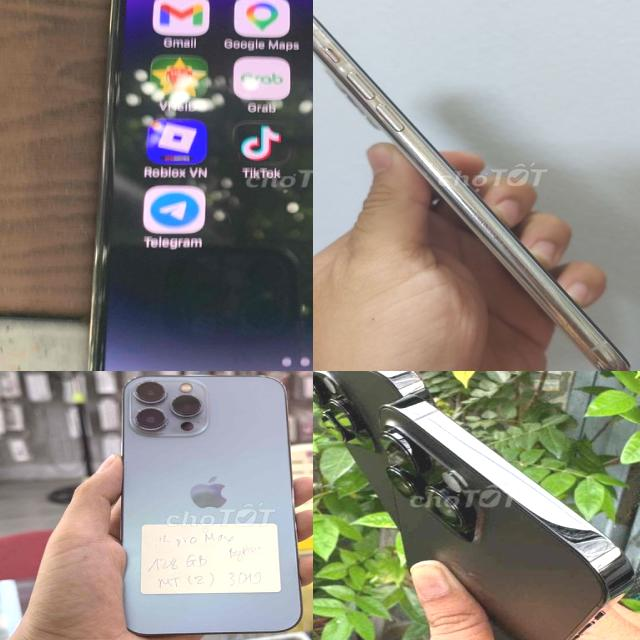gen_11: (313, 0, 640, 371)
gen_12_13: (122, 371, 302, 639)
gen_14: (83, 0, 313, 371), (372, 396, 634, 640)
